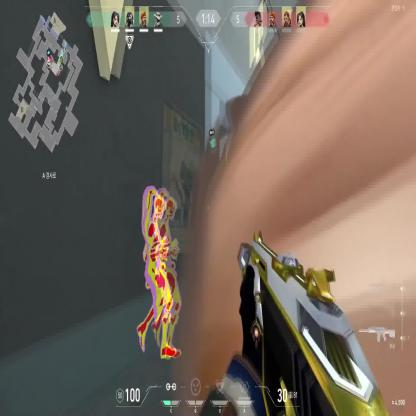enemy: (133, 184, 181, 361)
enemy_head: (156, 197, 165, 221)
